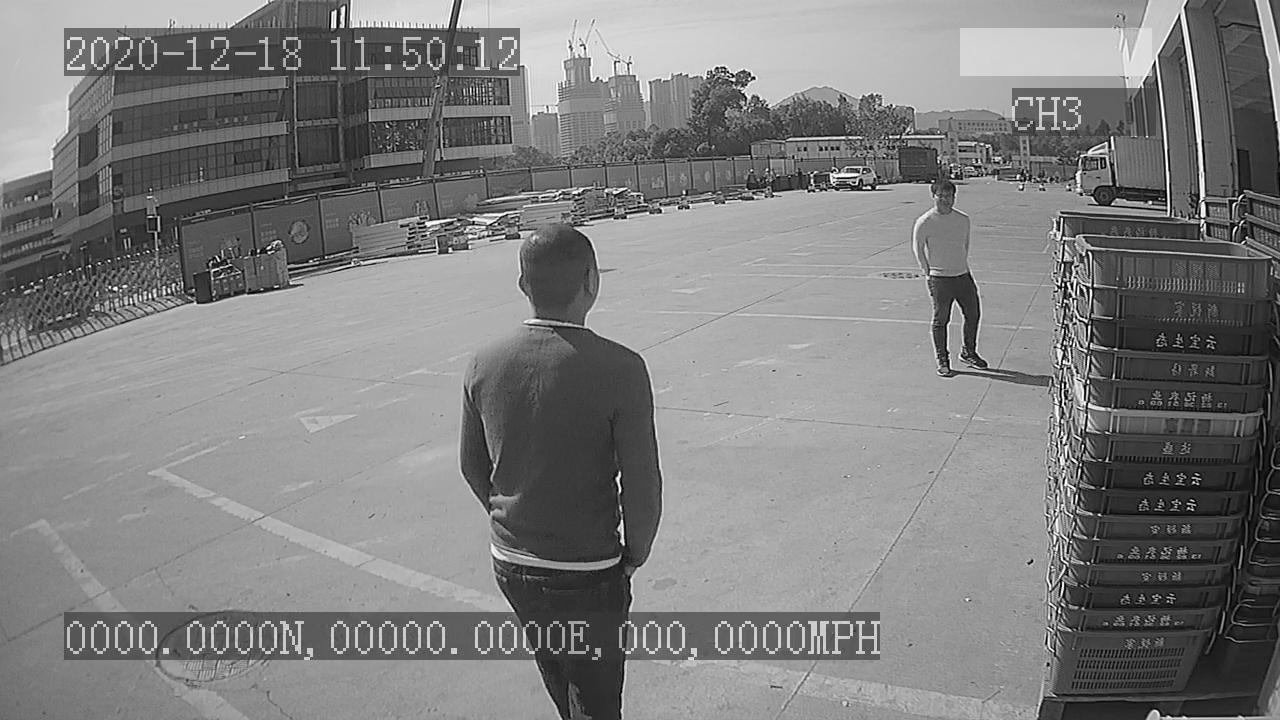person: (906, 179, 995, 381)
